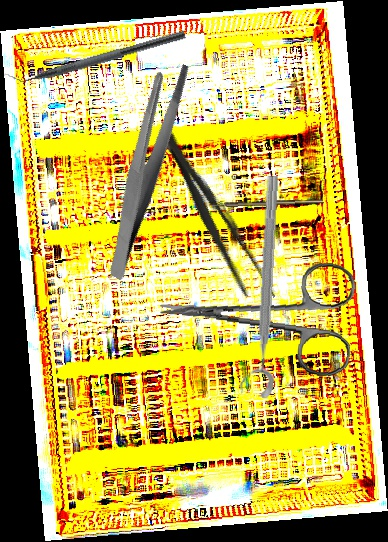Chopper: (2, 18, 188, 93)
Dressing Forceps: (55, 54, 235, 282), (148, 122, 281, 312)
Fixation Ring: (237, 174, 285, 399)
Hook Surgical: (209, 198, 324, 208)
Iris Scissors: (155, 247, 358, 379)
